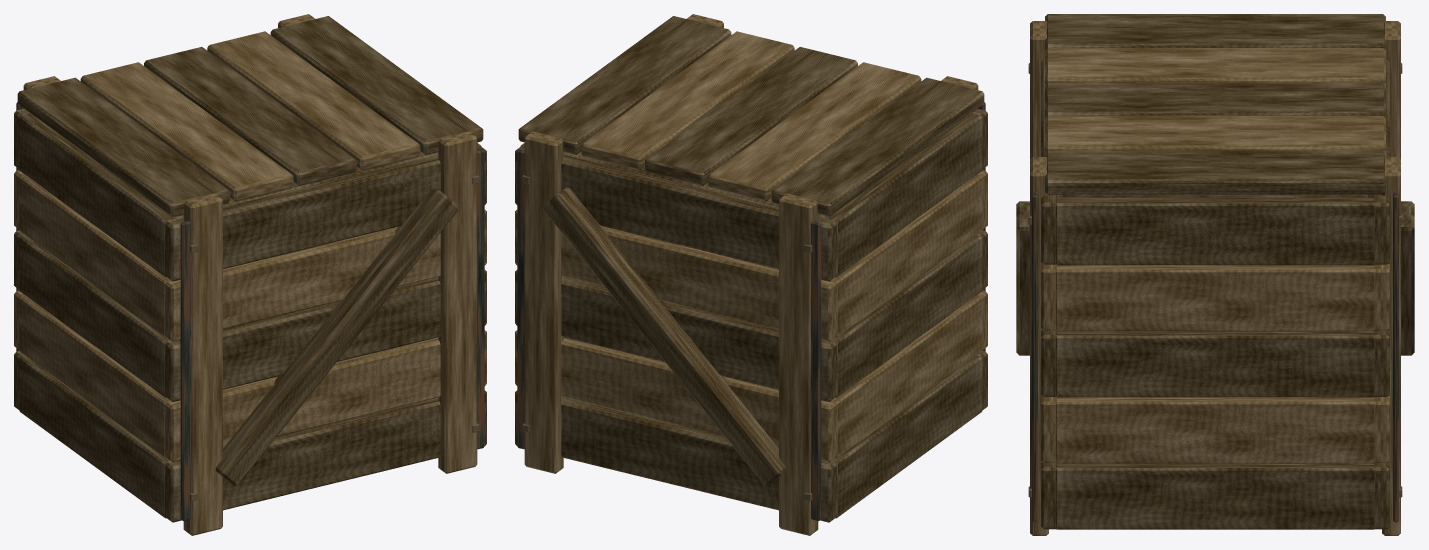
The model's file is wood_supply_crate_1m.glb.
The picture shows the model from 3 angles, left to right: view 1: azimuth 30°, elevation 25°; view 2: azimuth 150°, elevation 25°; view 3: azimuth 270°, elevation 25°; orthographic projection. The views are drawn at different scales.
Visible parts, largest first — view 1: wood_supply_crate_1m; view 2: wood_supply_crate_1m; view 3: wood_supply_crate_1m.
Boxes of the visible parts, bbox=[...] form: wood_supply_crate_1m: bbox=[14, 14, 486, 535]; wood_supply_crate_1m: bbox=[515, 14, 987, 535]; wood_supply_crate_1m: bbox=[1016, 14, 1414, 535].
Size of the model in its own units: 1 by 1 by 0.9926.
Materials: 1 (1 with a texture image).
